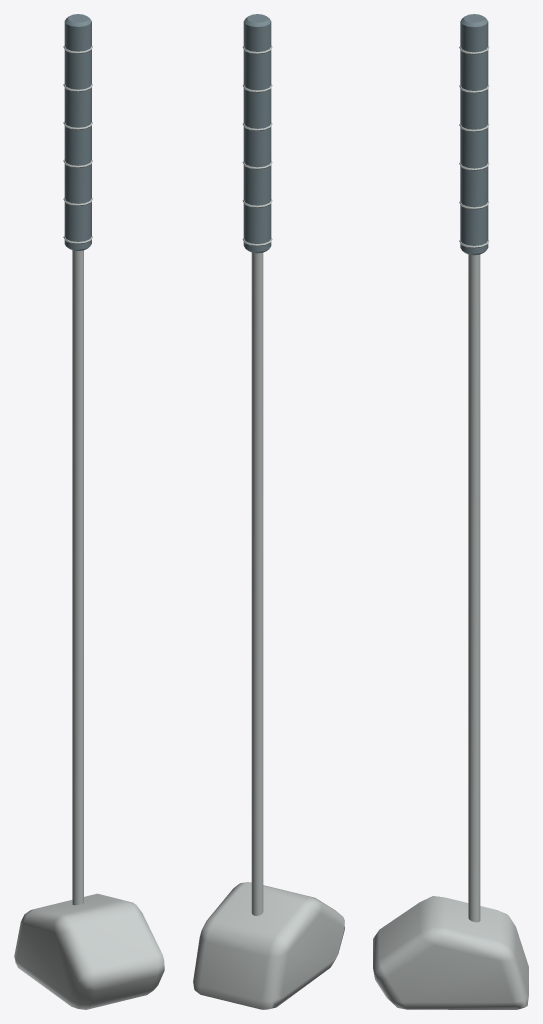
The model's file is golf-club.glb.
The picture shows the model from 3 angles, left to right: view 1: azimuth 30°, elevation 25°; view 2: azimuth 150°, elevation 25°; view 3: azimuth 270°, elevation 25°; orthographic projection.
Parts seen in each view (by area): view 1: club_head, shaft, grip; view 2: club_head, shaft, grip; view 3: club_head, shaft, grip.
Part boxes in pixels (box(x1,y1,x2,y2)): club_head: box(14, 893, 164, 1009); shaft: box(72, 250, 83, 905); grip: box(64, 14, 91, 250); club_head: box(193, 882, 344, 1009); shaft: box(251, 252, 263, 915); grip: box(243, 14, 271, 253); club_head: box(373, 896, 528, 1009); shaft: box(468, 254, 480, 922); grip: box(460, 14, 488, 255).
Bounding box in the file's own units: 0.095 × 1.01 × 0.1457.
